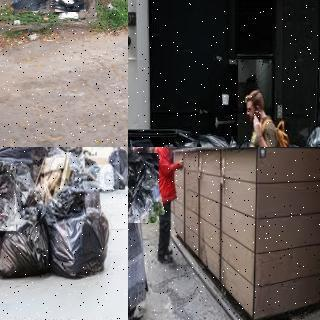Garbage: (46, 189, 111, 276), (0, 214, 50, 278), (128, 149, 162, 226), (0, 163, 19, 233), (299, 122, 320, 147), (108, 148, 128, 172), (12, 0, 49, 12), (49, 0, 84, 12), (121, 163, 128, 187)
